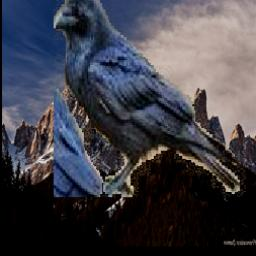Crow: (54, 0, 246, 198)
